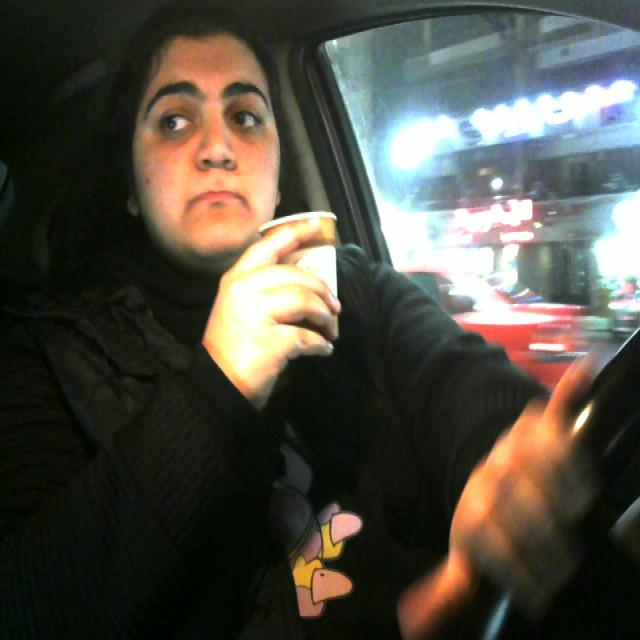drinking: (253, 212, 357, 363)
